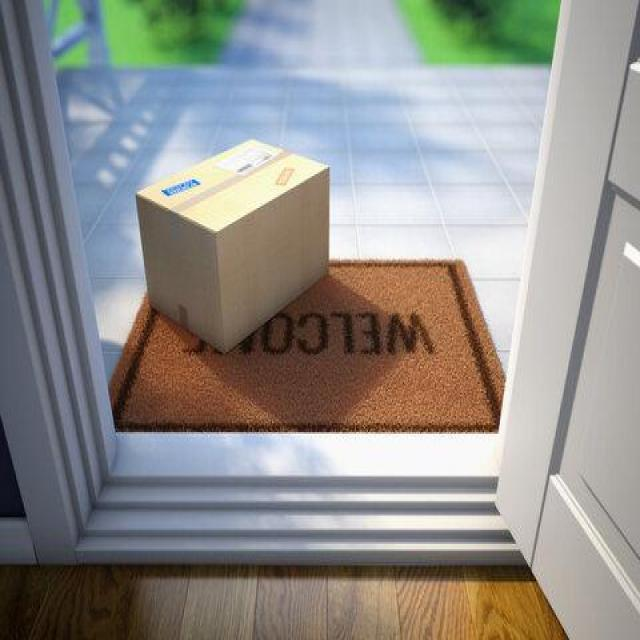box: (131, 134, 335, 356)
